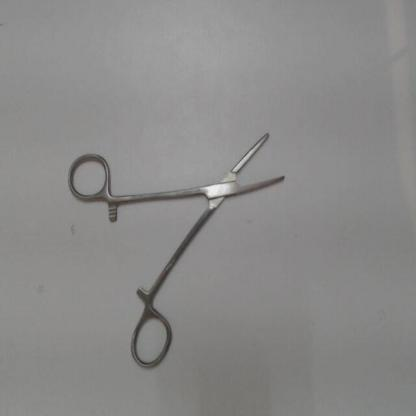Mayo Needle Holder: (62, 126, 296, 375)
